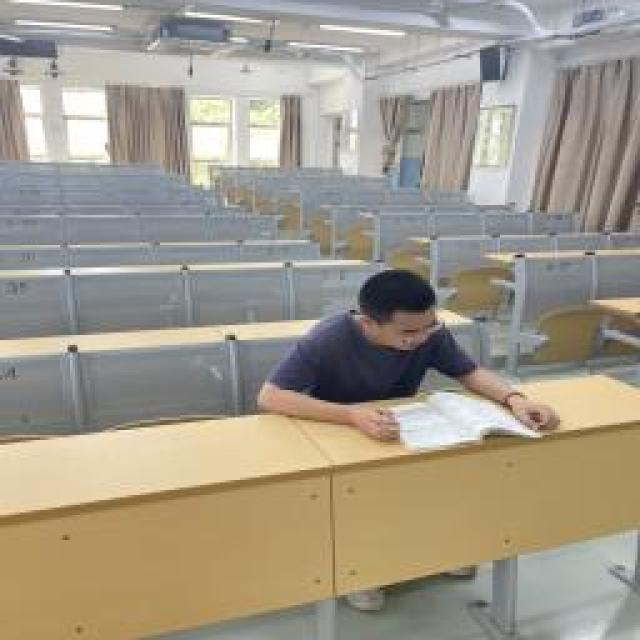study: (255, 268, 565, 450)
